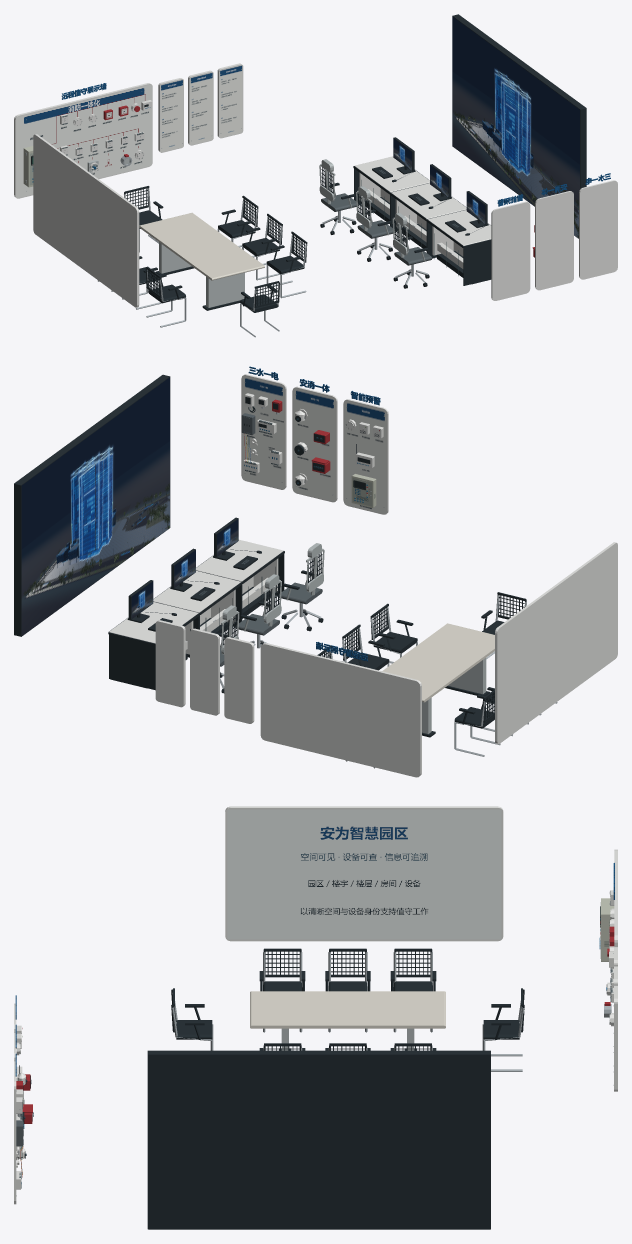
File: fire-stage-lod2.glb
The picture shows the model from 3 angles, top to bottom: view 1: azimuth 30°, elevation 25°; view 2: azimuth 150°, elevation 25°; view 3: azimuth 270°, elevation 25°; orthographic projection. The views are drawn at different scales.
Visible parts, largest first — view 1: V6_STAGE_FC_PAINTED, V6_STAGE_TEX_screen-main, V6_STAGE_FC_DARK, V6_STAGE_TEX_board-01, V6_STAGE_FC_METAL, V6_STAGE_TEX_rules-01, V6_STAGE_TEX_rules-03, V6_STAGE_TEX_rules-02, V6_STAGE_FC_BLUE; view 2: V6_STAGE_FC_PAINTED, V6_STAGE_TEX_screen-main, V6_STAGE_FC_DARK, V6_STAGE_TEX_board-03, V6_STAGE_TEX_board-02, V6_STAGE_TEX_board-04, V6_STAGE_FC_METAL, V6_STAGE_FC_BLUE; view 3: V6_STAGE_FC_DARK, V6_STAGE_TEX_company, V6_STAGE_FC_PAINTED, V6_STAGE_FC_METAL.
Part boxes in pixels (left/top/right/bottom): V6_STAGE_FC_PAINTED: left=14, top=63, right=617, bottom=307; V6_STAGE_TEX_screen-main: left=452, top=16, right=579, bottom=238; V6_STAGE_FC_DARK: left=31, top=14, right=586, bottom=312; V6_STAGE_TEX_board-01: left=16, top=84, right=151, bottom=198; V6_STAGE_FC_METAL: left=25, top=69, right=451, bottom=337; V6_STAGE_TEX_rules-01: left=160, top=79, right=183, bottom=152; V6_STAGE_TEX_rules-03: left=219, top=65, right=242, bottom=137; V6_STAGE_TEX_rules-02: left=190, top=72, right=212, bottom=145; V6_STAGE_FC_BLUE: left=61, top=83, right=610, bottom=206; V6_STAGE_FC_PAINTED: left=109, top=374, right=617, bottom=777; V6_STAGE_TEX_screen-main: left=21, top=377, right=169, bottom=635; V6_STAGE_FC_DARK: left=14, top=374, right=526, bottom=737; V6_STAGE_TEX_board-03: left=293, top=388, right=335, bottom=501; V6_STAGE_TEX_board-02: left=242, top=375, right=284, bottom=489; V6_STAGE_TEX_board-04: left=344, top=400, right=386, bottom=514; V6_STAGE_FC_METAL: left=186, top=382, right=557, bottom=768; V6_STAGE_FC_BLUE: left=248, top=366, right=380, bottom=661; V6_STAGE_FC_DARK: left=18, top=891, right=612, bottom=1229; V6_STAGE_TEX_company: left=227, top=809, right=501, bottom=939; V6_STAGE_FC_PAINTED: left=14, top=806, right=617, bottom=1204; V6_STAGE_FC_METAL: left=16, top=862, right=614, bottom=1195.
Bounding box in the file's own units: 7.95 × 2.86 × 7.39.
18 materials, 13 textured.
